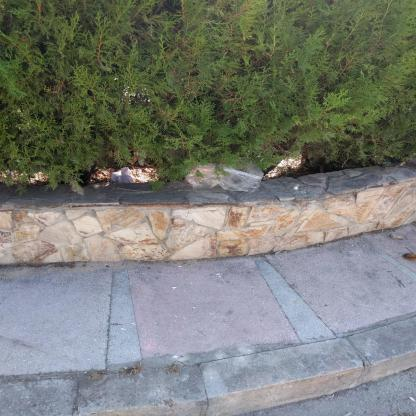plastik: (186, 158, 264, 192)
